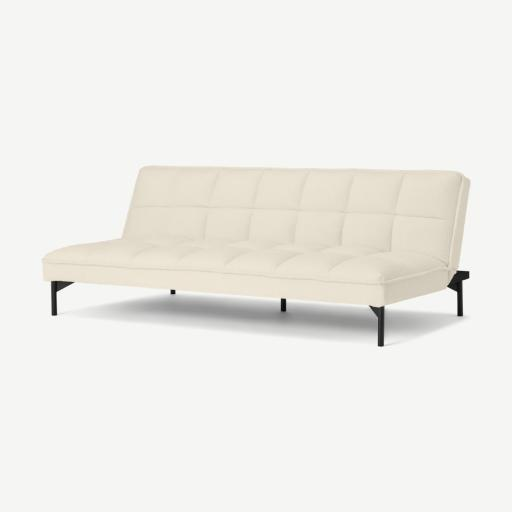back_cushion: (138, 158, 469, 251)
base: (45, 283, 414, 315)
left_arm: (398, 170, 470, 310)
legs: (44, 296, 65, 328), (388, 317, 401, 354), (454, 298, 460, 329), (146, 302, 150, 310)
right_arm: (66, 209, 146, 250)
seat_cushion: (42, 241, 414, 303)
two-seater: (0, 0, 511, 512)
